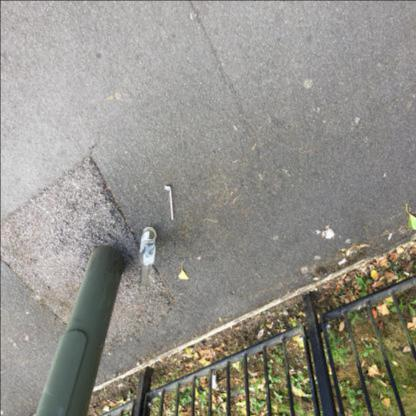Bottle cap: (139, 226, 157, 292)
Straw: (164, 185, 173, 219)
Unlabeled litter: (212, 374, 217, 389)
